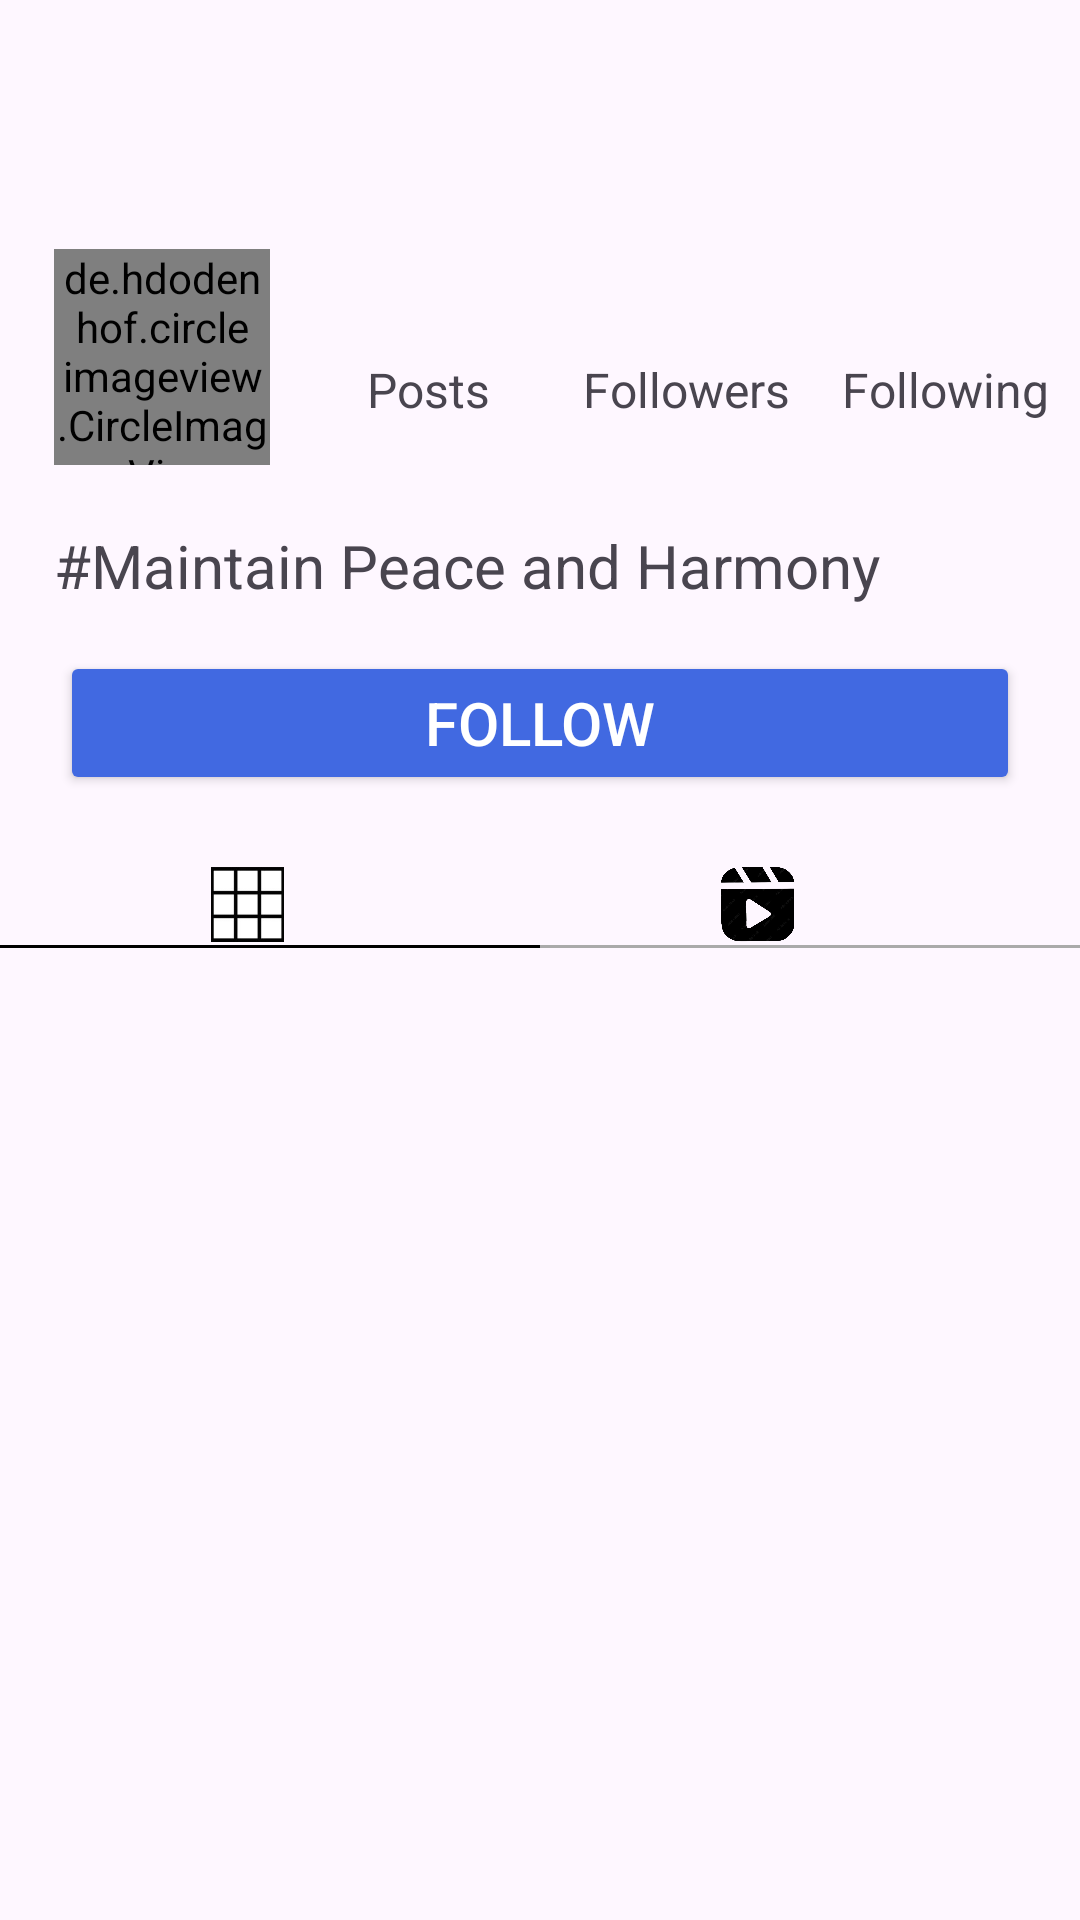

Screen size 1080×1920. Icon name, then its box in pixels as (x1, y1, x2, y2):
gridviewimage: (211, 867, 284, 942)
